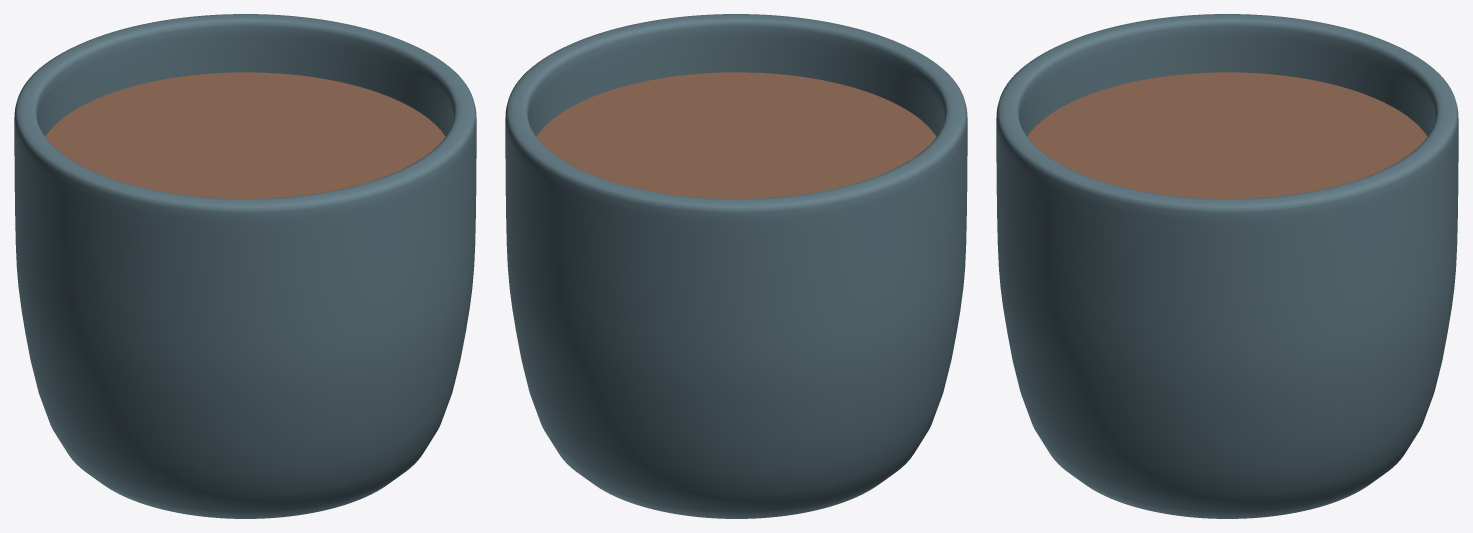
The model's file is basic_blue.glb.
The picture shows the model from 3 angles, left to right: view 1: azimuth 30°, elevation 25°; view 2: azimuth 150°, elevation 25°; view 3: azimuth 270°, elevation 25°; orthographic projection.
Parts seen in each view (by area): view 1: Circle.002, Circle.001; view 2: Circle.002, Circle.001; view 3: Circle.002, Circle.001.
Boxes of the visible parts, <box> form: Circle.002: <box>14,14,476,518</box>; Circle.001: <box>45,72,445,198</box>; Circle.002: <box>505,14,967,518</box>; Circle.001: <box>536,72,936,198</box>; Circle.002: <box>996,14,1458,518</box>; Circle.001: <box>1027,72,1427,198</box>.
Size of the model in its own units: 11.86 by 10.04 by 11.86.
